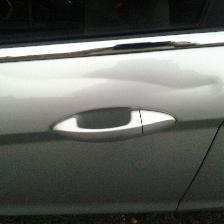dent: (50, 44, 224, 113)
